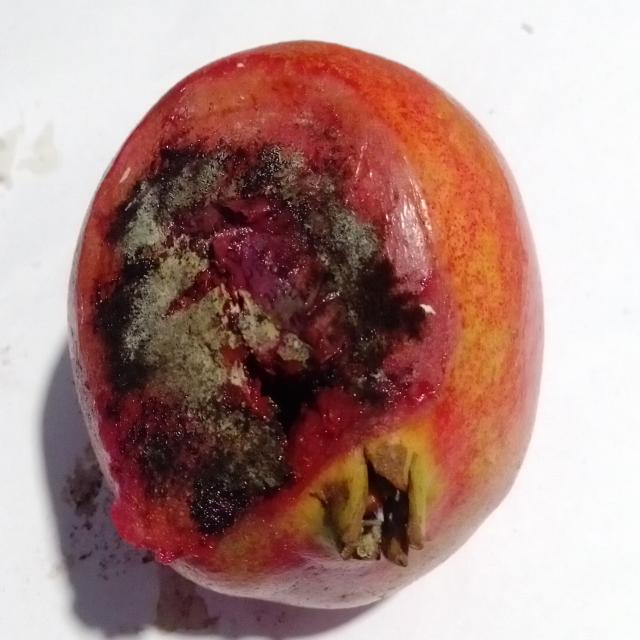Rotten: (62, 30, 551, 618)
